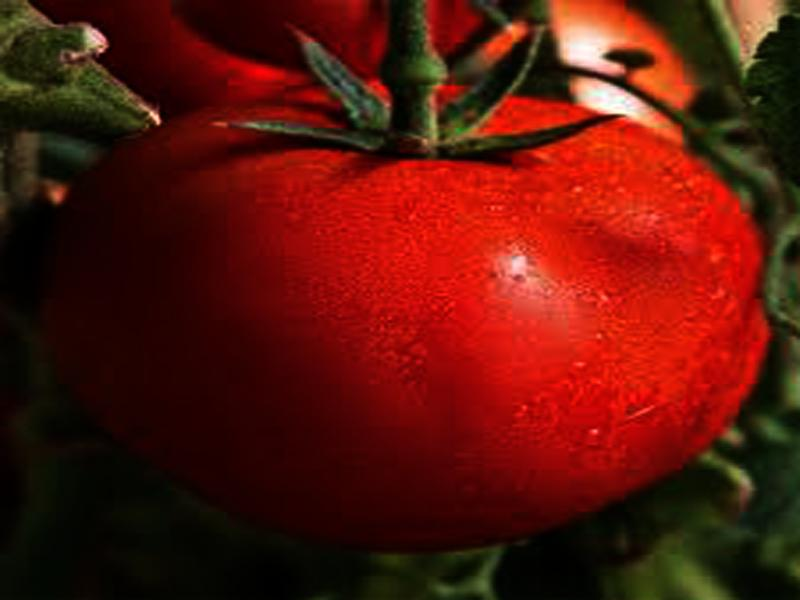Tomato: (43, 83, 768, 547)
